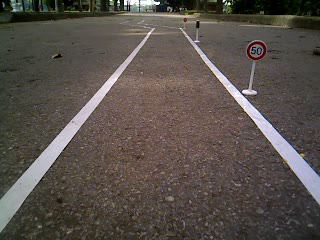limit 50: (245, 39, 269, 62)
